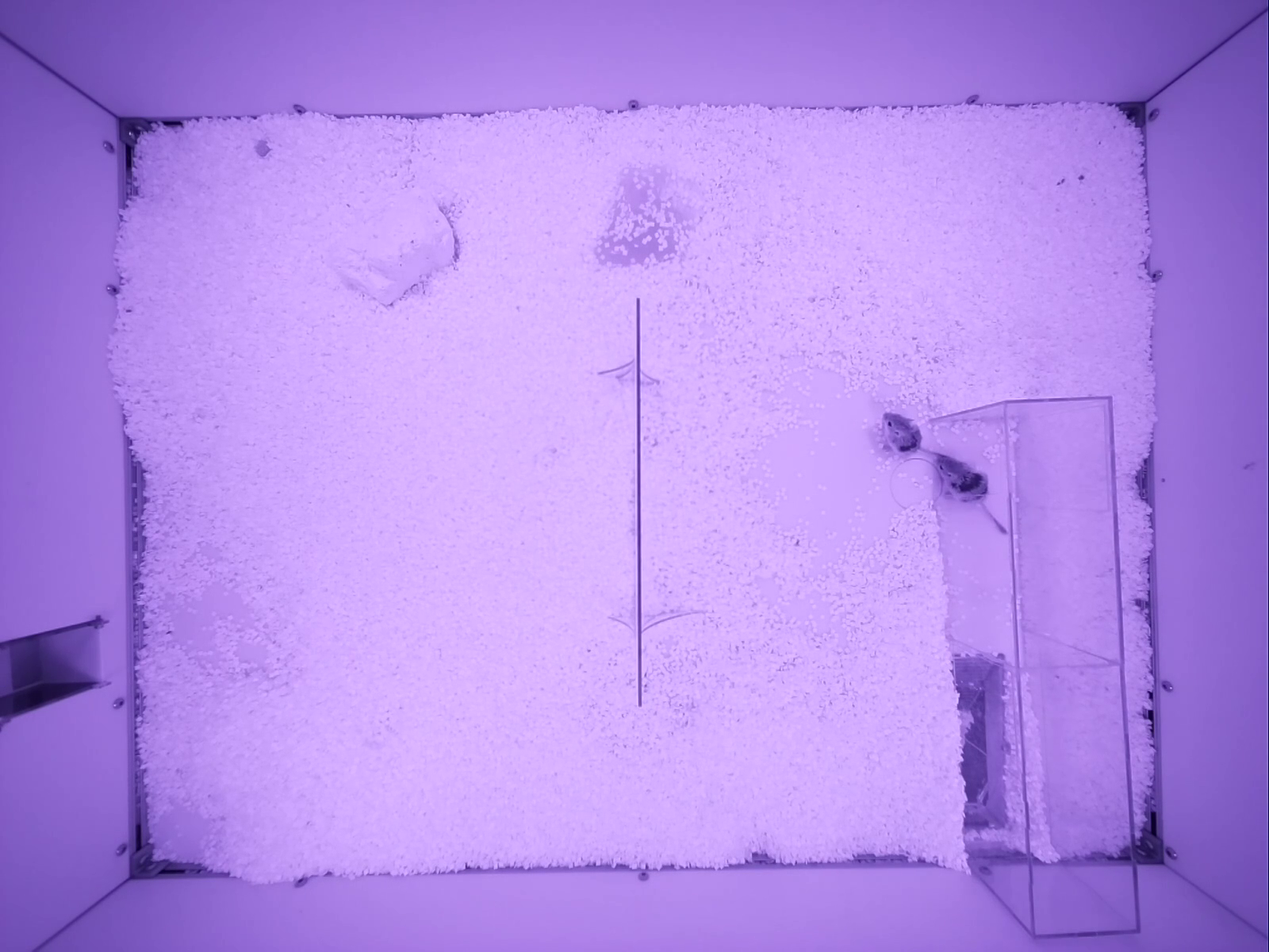adult_back: (934, 454, 1006, 529), (883, 412, 921, 453)
